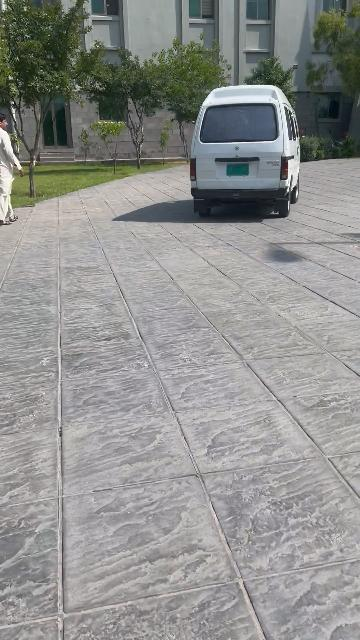plate: (226, 164, 248, 176)
